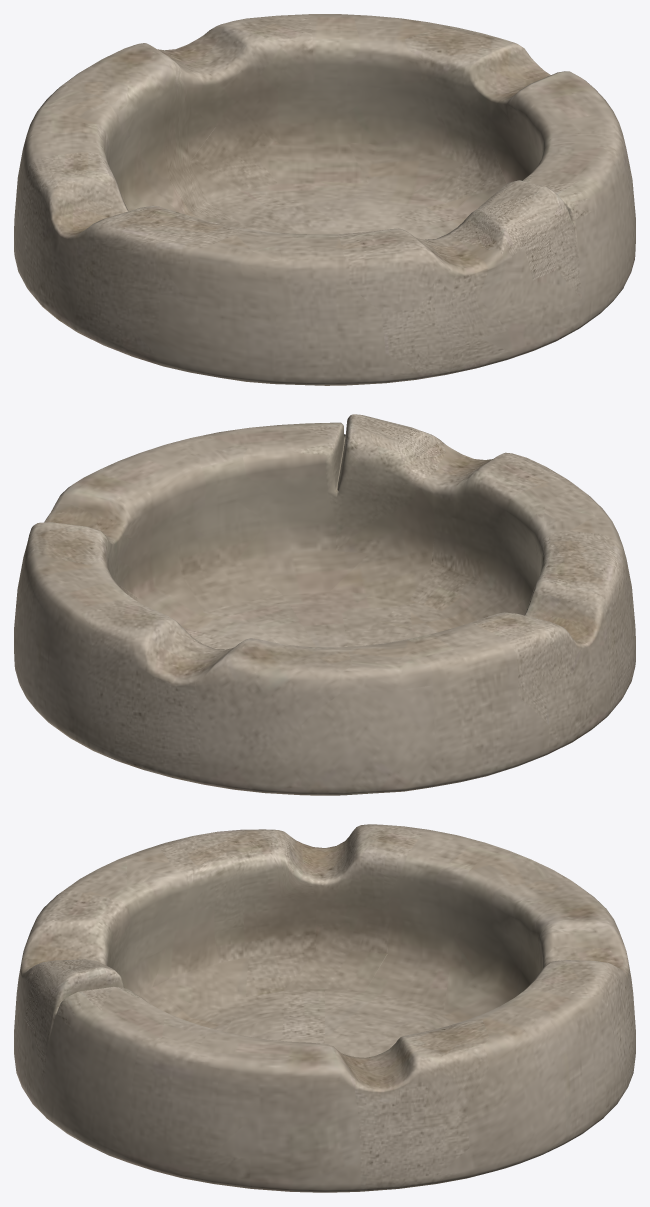
Rendered from ashtray.glb.
The picture shows the model from 3 angles, top to bottom: view 1: azimuth 30°, elevation 25°; view 2: azimuth 150°, elevation 25°; view 3: azimuth 270°, elevation 25°; orthographic projection.
Parts seen in each view (by area): view 1: tripo_node_593c7b81-c940-48a5-b45d-58aec88a77bf; view 2: tripo_node_593c7b81-c940-48a5-b45d-58aec88a77bf; view 3: tripo_node_593c7b81-c940-48a5-b45d-58aec88a77bf.
Boxes of the visible parts, bbox=[...] form: tripo_node_593c7b81-c940-48a5-b45d-58aec88a77bf: bbox=[14, 14, 635, 385]; tripo_node_593c7b81-c940-48a5-b45d-58aec88a77bf: bbox=[14, 414, 635, 795]; tripo_node_593c7b81-c940-48a5-b45d-58aec88a77bf: bbox=[14, 824, 635, 1192].
Size of the model in its own units: 0.9995 by 0.2476 by 0.9995.
Materials: 1 (1 with a texture image).
